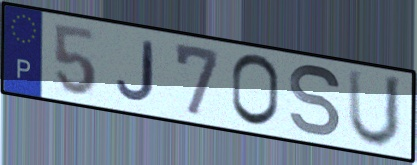5: (51, 20, 100, 98)
7: (172, 39, 221, 119)
J: (114, 38, 157, 104)
O: (228, 52, 282, 130)
S: (287, 62, 344, 141)
U: (345, 66, 405, 151)
